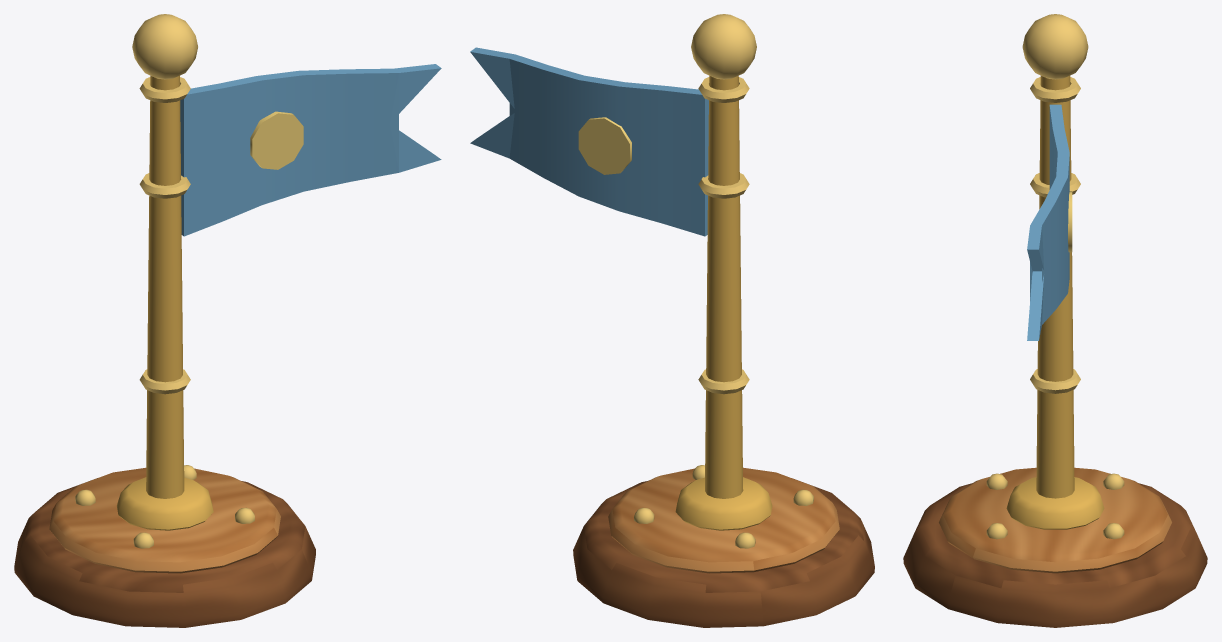
File: marqueur_extension.glb
3 views of the same model, side by side, from view 1: azimuth 30°, elevation 25°; view 2: azimuth 150°, elevation 25°; view 3: azimuth 270°, elevation 25° (orthographic).
Visible parts, largest first — view 1: marqueur_extension; view 2: marqueur_extension; view 3: marqueur_extension.
Part boxes in pixels (x1,y1,x2,y2): marqueur_extension: [14, 14, 441, 627]; marqueur_extension: [470, 14, 874, 627]; marqueur_extension: [903, 14, 1207, 627].
Size of the model in its own units: 0.9918 by 1.32 by 0.6636.
6 materials, 2 textured.
